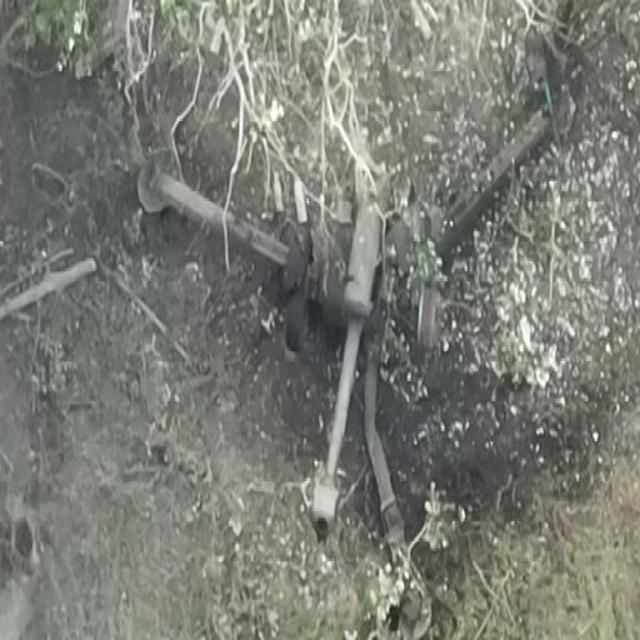ART: (126, 89, 552, 544)
